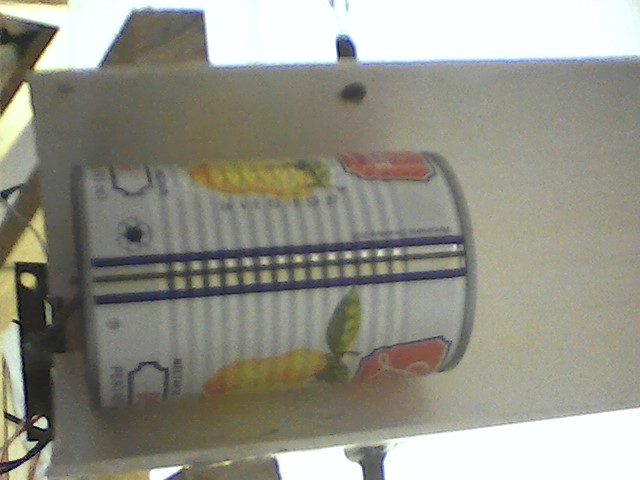lata: (67, 148, 487, 410)
